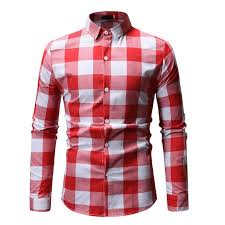squared: (27, 10, 193, 217)
